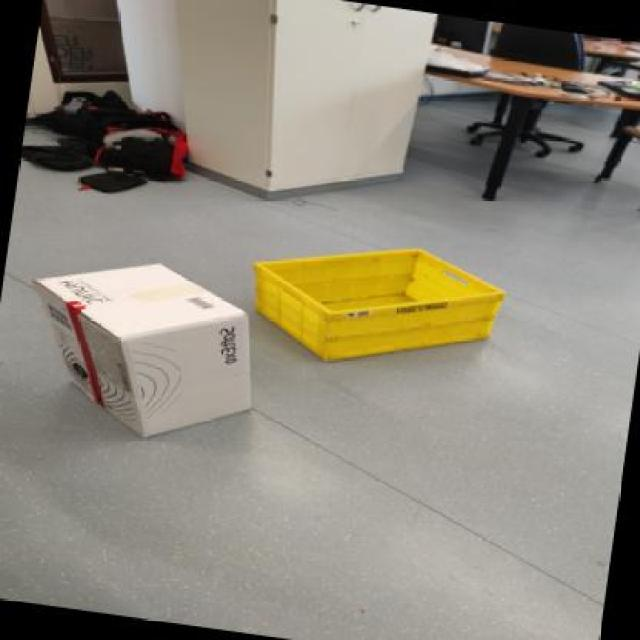box: (8, 232, 267, 456), (244, 215, 516, 382)
